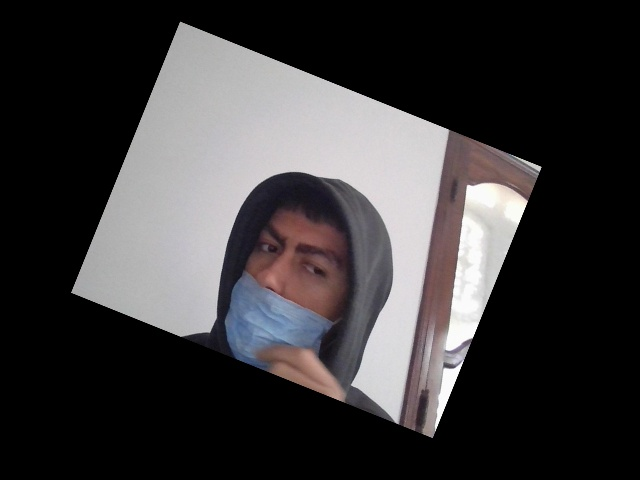mask_weared_incorrect: (232, 199, 358, 380)
